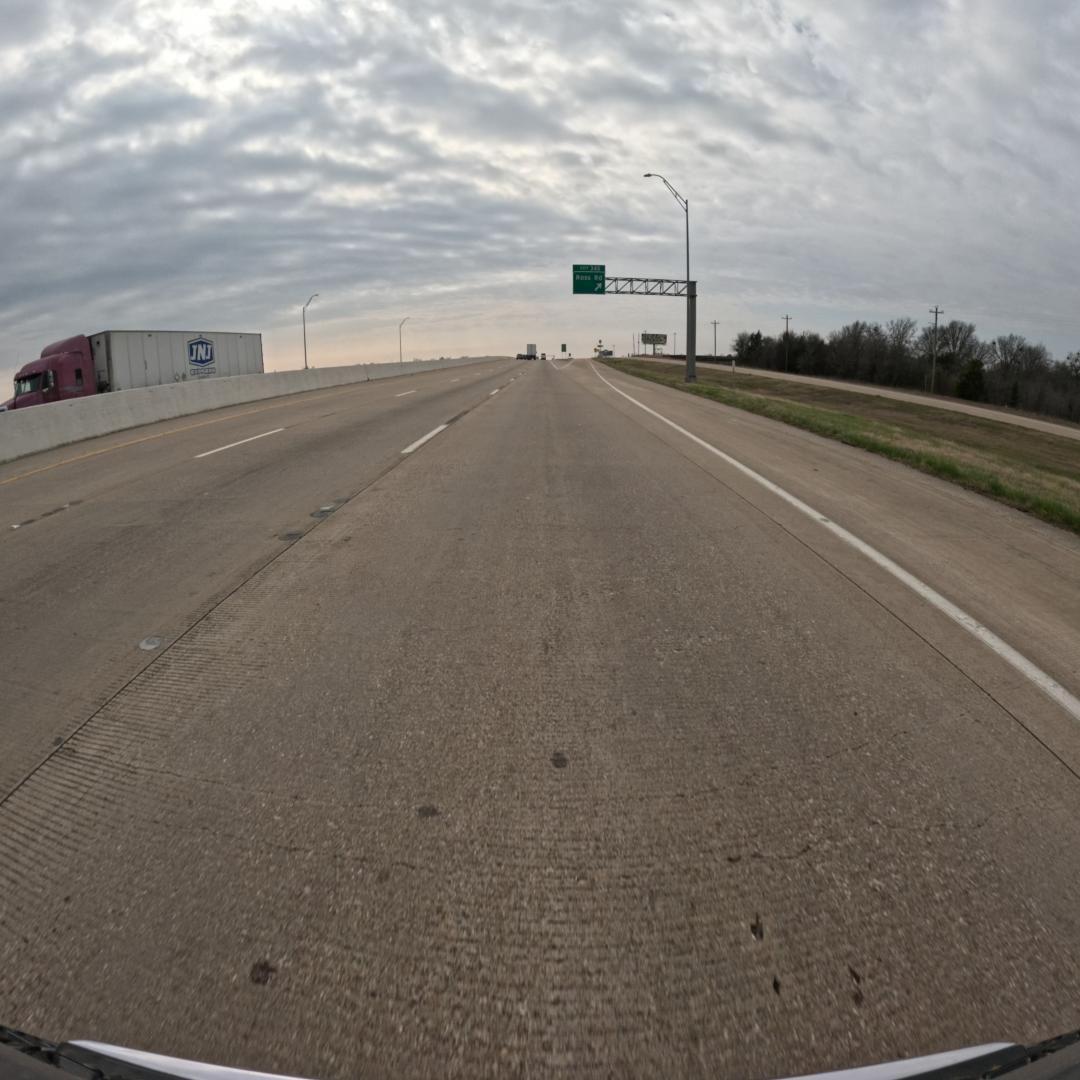lane0: (0, 370, 1080, 1077)
lane1: (0, 370, 516, 800)
